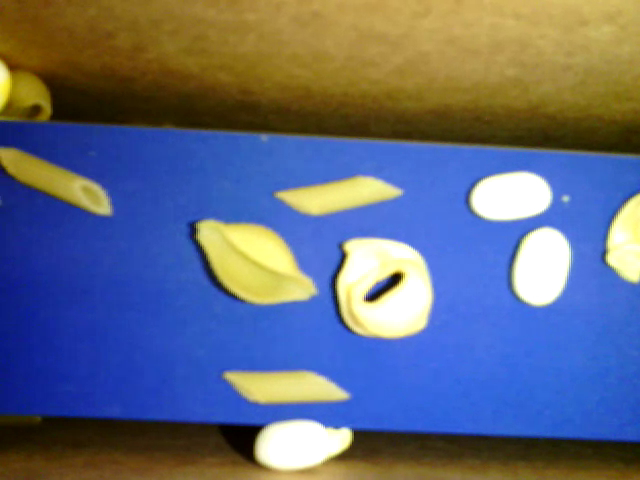penne: (3, 146, 118, 217), (274, 174, 405, 216), (217, 370, 351, 406)
shell: (194, 219, 318, 308), (3, 68, 60, 123)
tortellini: (331, 238, 434, 339)
